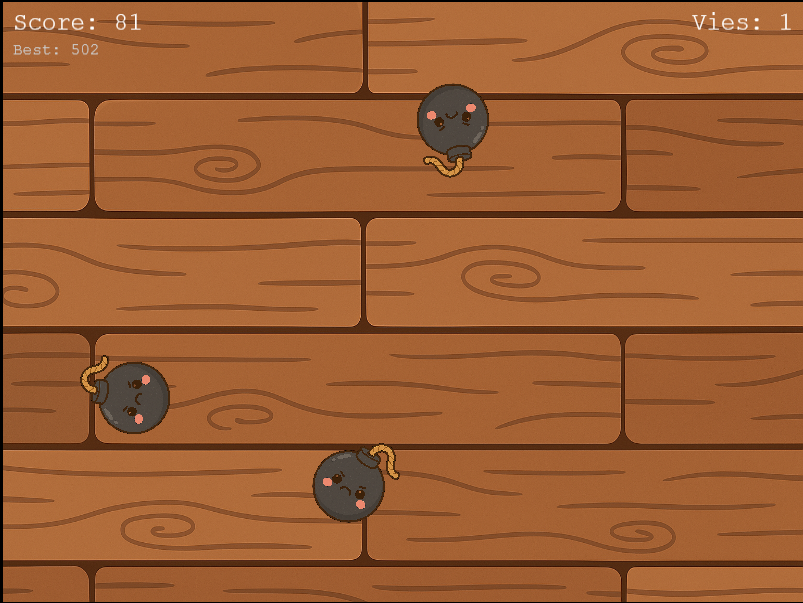bomb: (75, 342, 176, 443), (403, 79, 502, 178), (305, 437, 403, 535)
